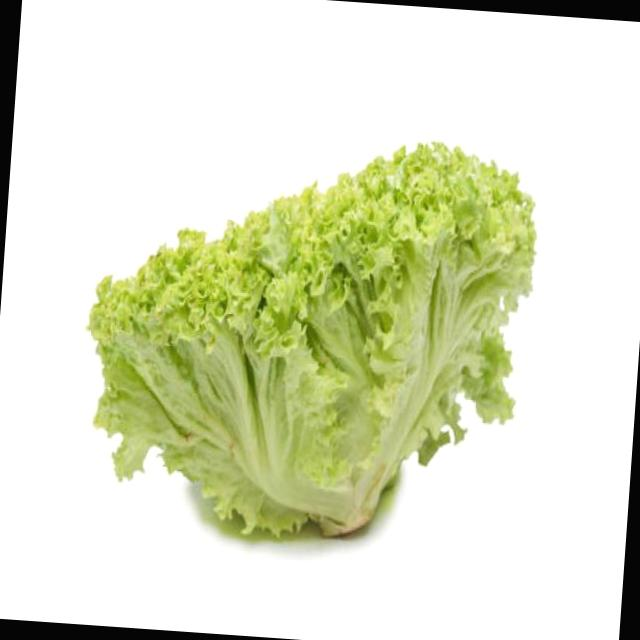Lettuce-Ready-to-Harvest: (85, 142, 538, 544)
